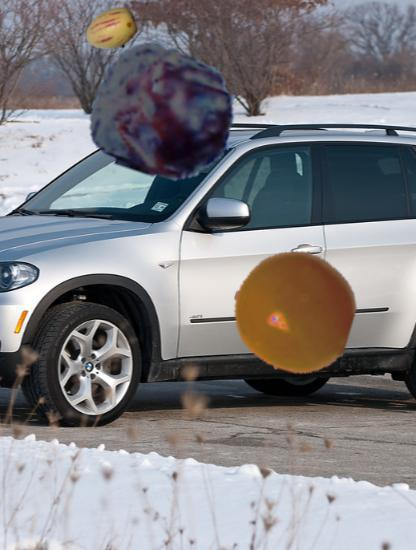Dates: (93, 41, 237, 185)
Pepino: (86, 3, 141, 58)
Physalis: (233, 249, 357, 373)
